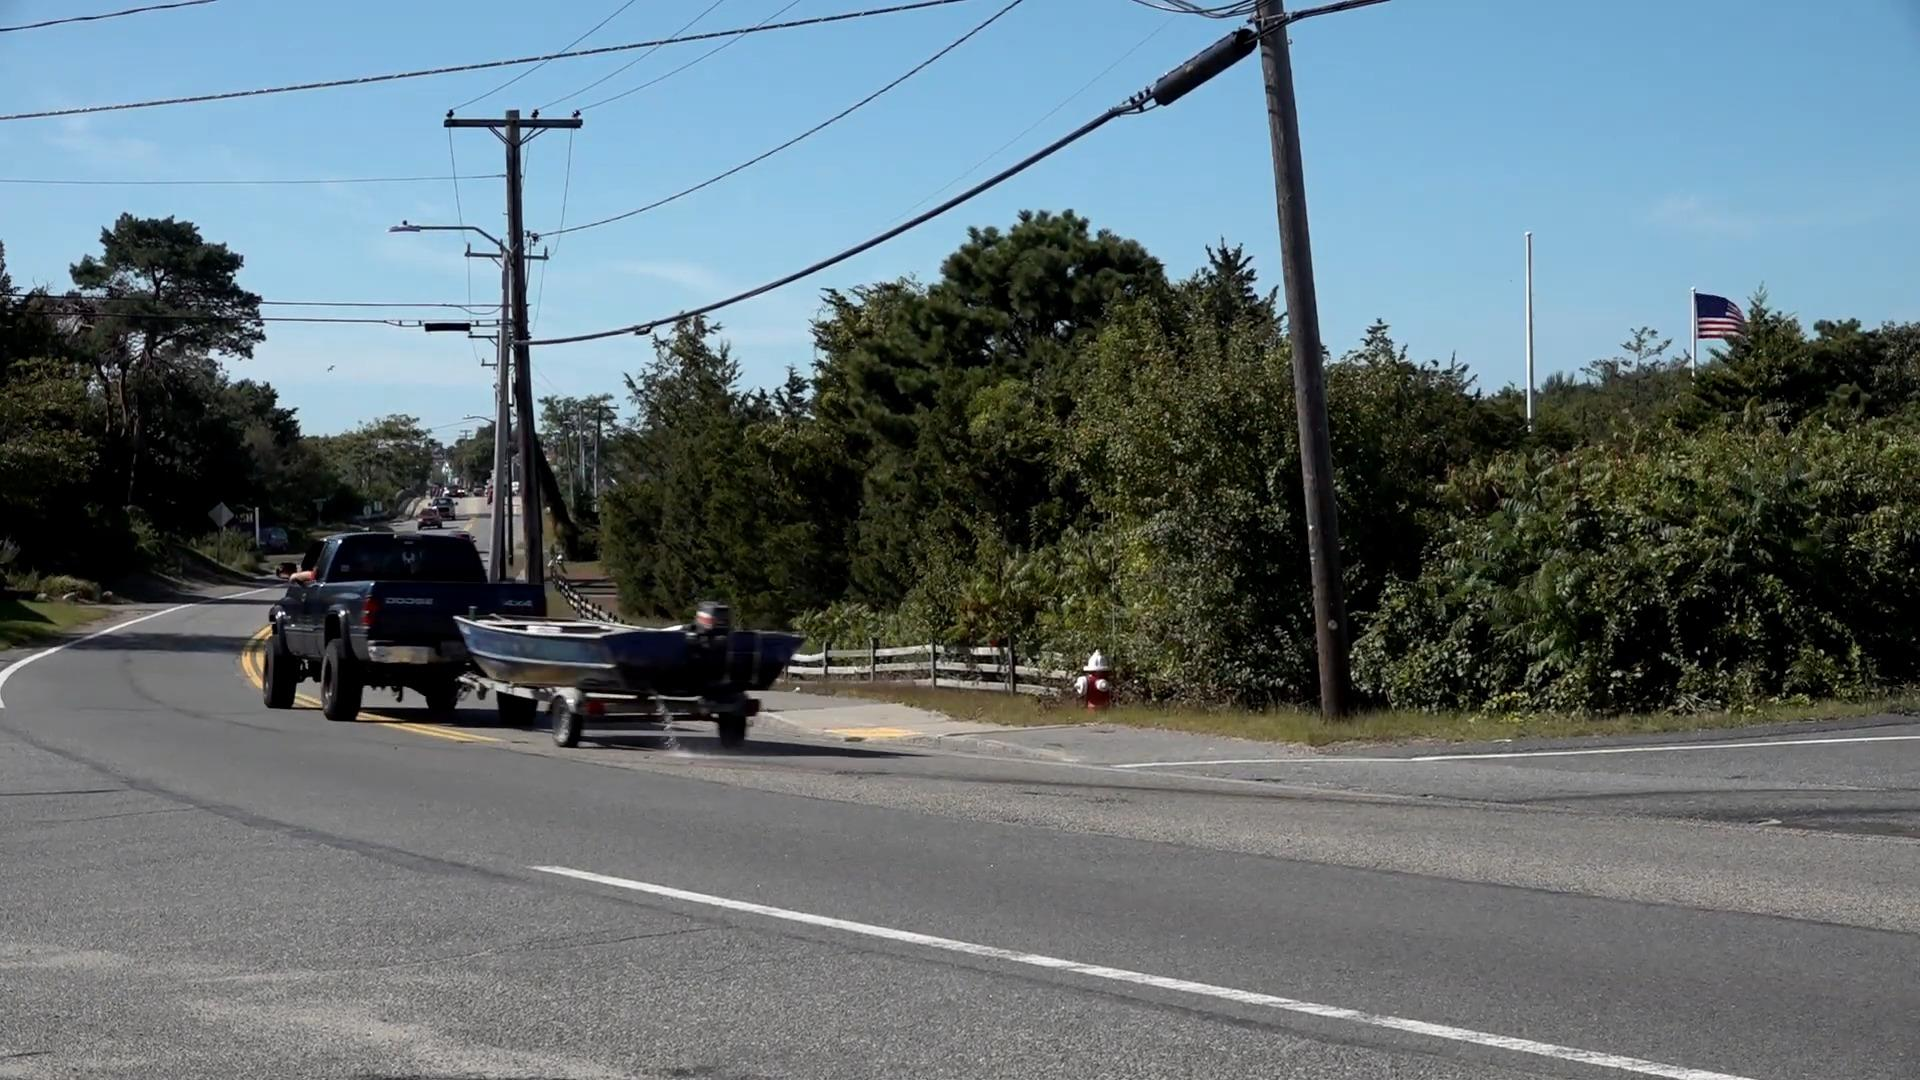pickup: (258, 534, 452, 720)
